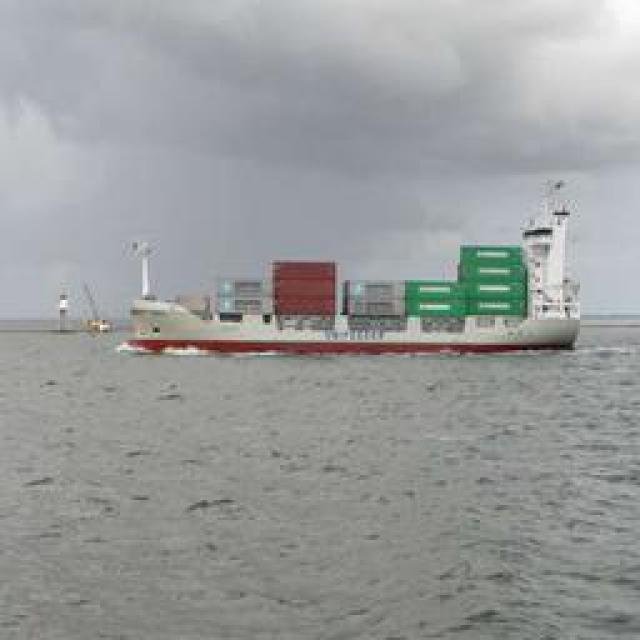Ship: (120, 201, 583, 369)
